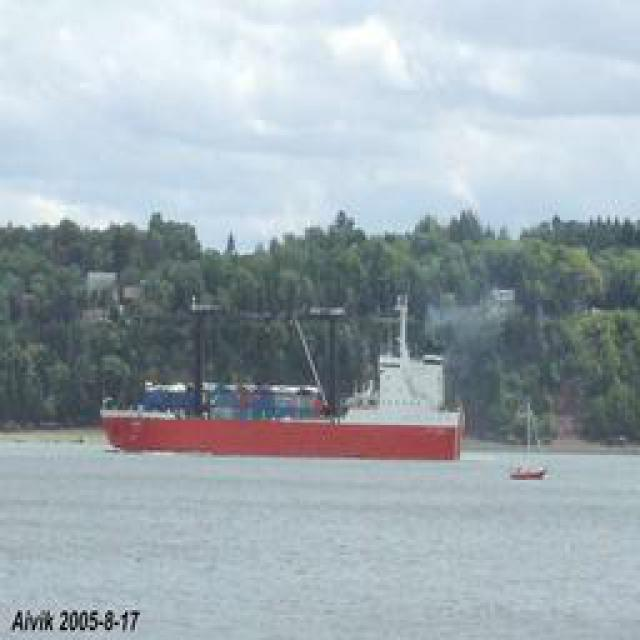Ship: (82, 285, 468, 465), (509, 398, 549, 483)
